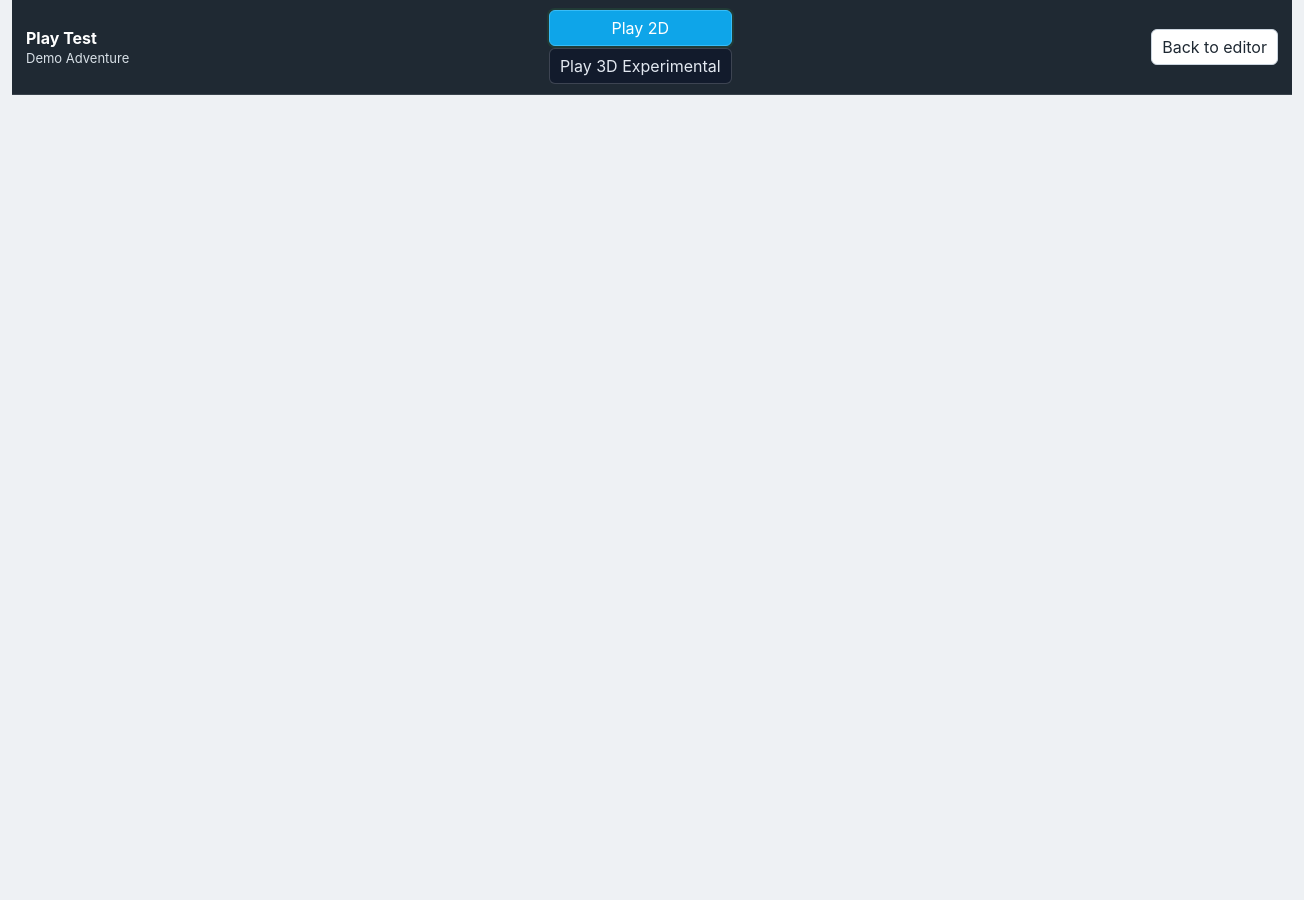
Test case: RuntimePanel play modes › switches to the experimental Three.js runtime mode
Click the button "Play 3D Experimental" at coordinates (640, 66), box left=549, top=48, right=732, bottom=84
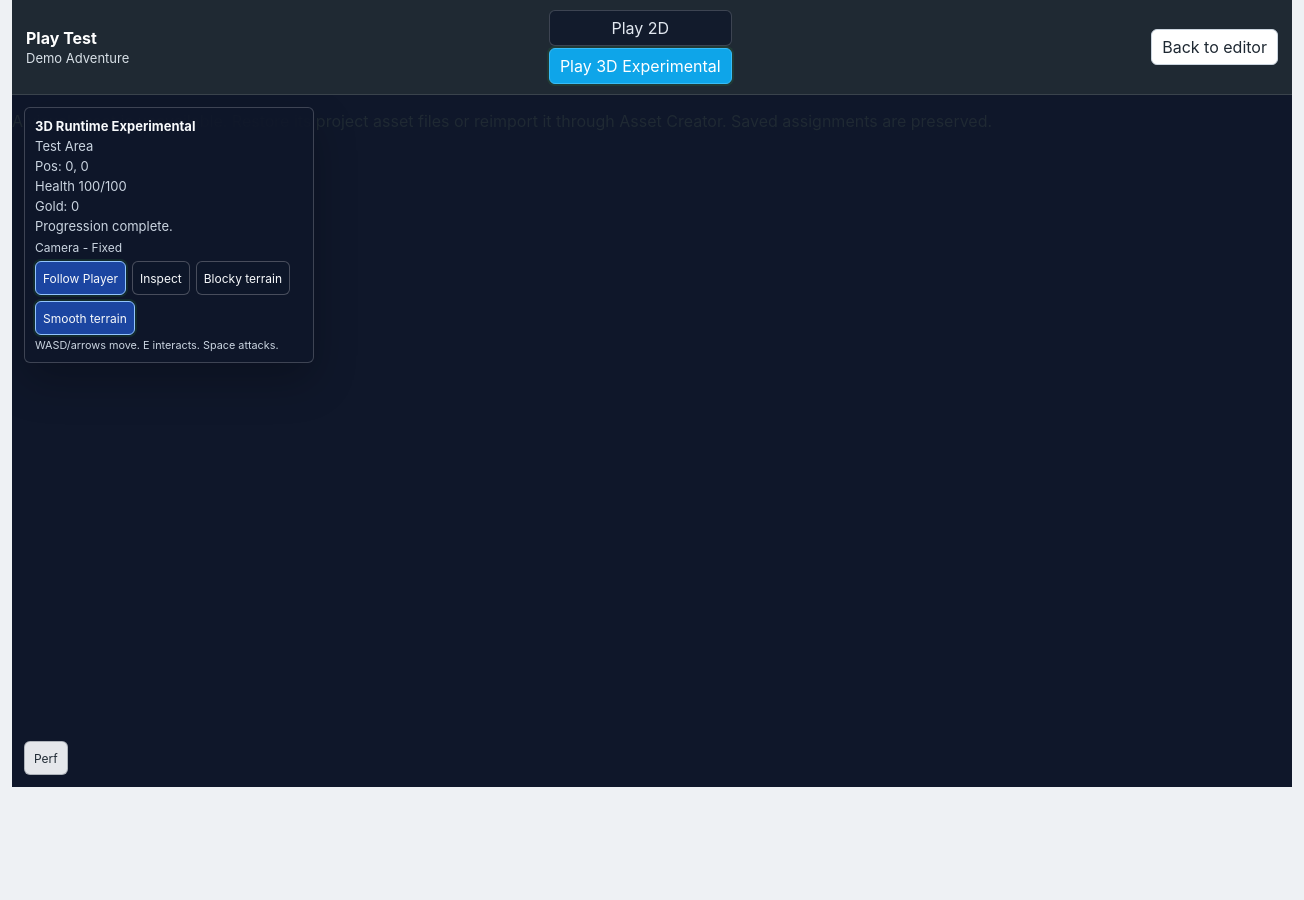
Now the text "3D Runtime Experimental" is shown, box left=35, top=118, right=195, bottom=134
Now the drawing named "Three runtime viewport" is shown
